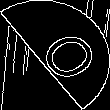O_SW: (17, 23, 93, 87)
